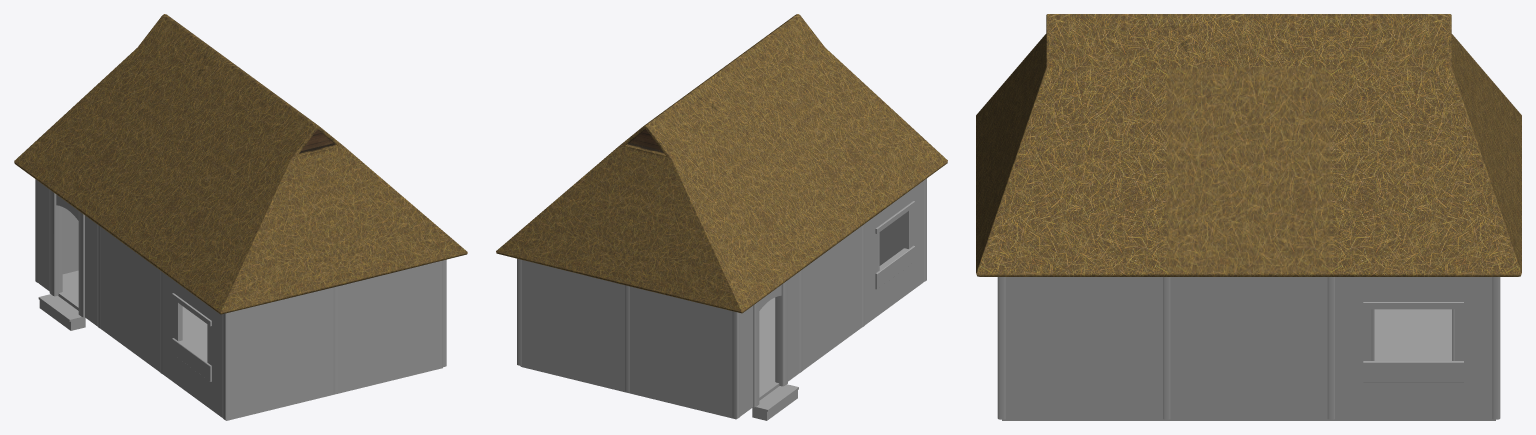
Rendered from House_POOR.fbx.
3 renders of one model, left to right at view 1: azimuth 30°, elevation 25°; view 2: azimuth 150°, elevation 25°; view 3: azimuth 270°, elevation 25°, orthographic. The views are drawn at different scales.
Visible parts, largest first — view 1: House_Poor; view 2: House_Poor; view 3: House_Poor.
Boxes of the visible parts, box(x1,y1,x2,y2) form: House_Poor: box(14, 14, 467, 420); House_Poor: box(496, 14, 947, 420); House_Poor: box(976, 14, 1521, 420).
Bounding box in the file's own units: 458 × 468 × 663.
